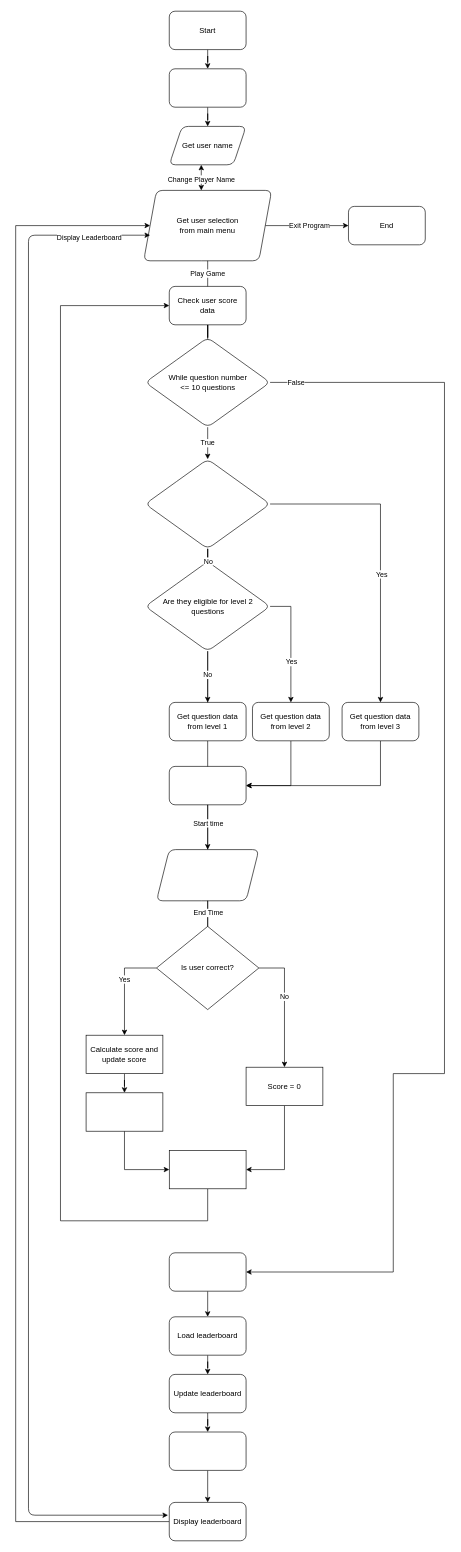
This 461x1552 diagram has some shape labels left out. The shapes that lost their labels are listed below. From the top down, each one's centre as x and y in pixels, then its label:
point 207,87: Display welcome screen and instructions
point 207,504: Are they eligible for level 3 questions
point 207,785: Print question
point 207,875: Get user answer
point 124,1111: Calculate time and update time
point 207,1169: Print question review and score
point 207,1271: Display results and pyramid built
point 207,1450: Save leaderboard
